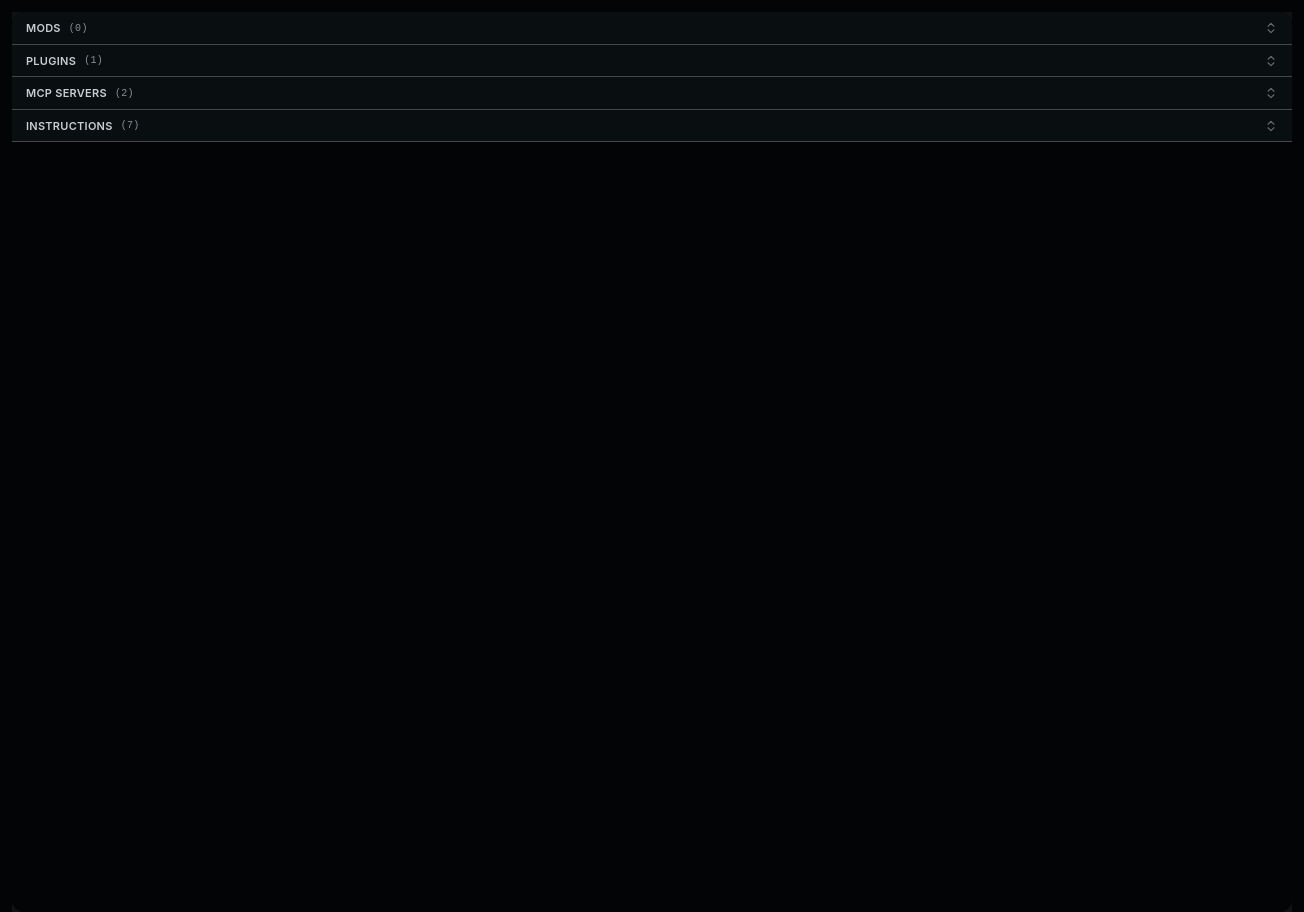
Scenario: SessionContextPanel › tags a plugin with its marketplace, not its own id again
Click the button "Plugins (1)": (51, 60) x1=12 y1=44 x2=1292 y2=77
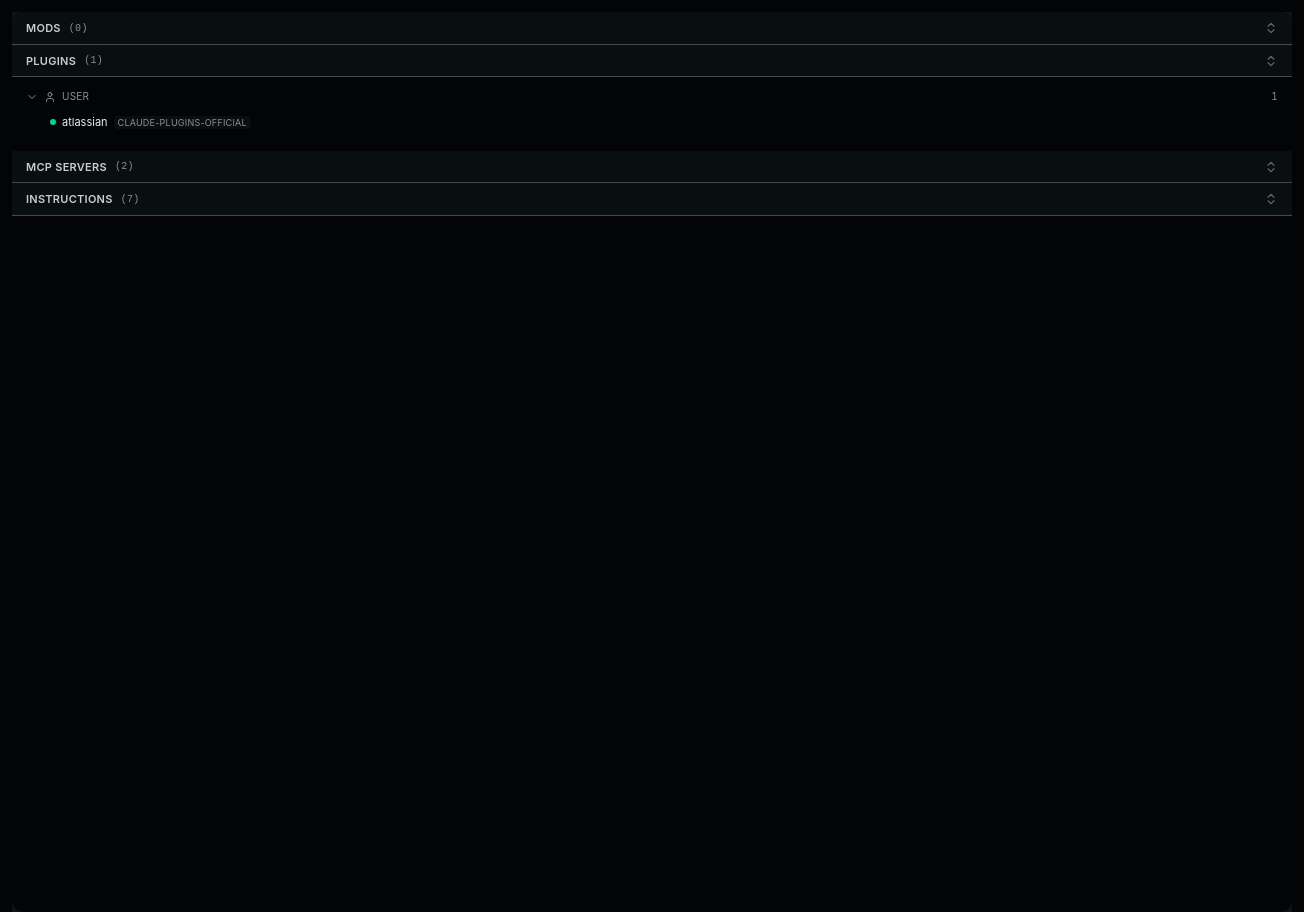
Check: the text "claude-plugins-official" is shown, box x1=114 y1=116 x2=251 y2=129
